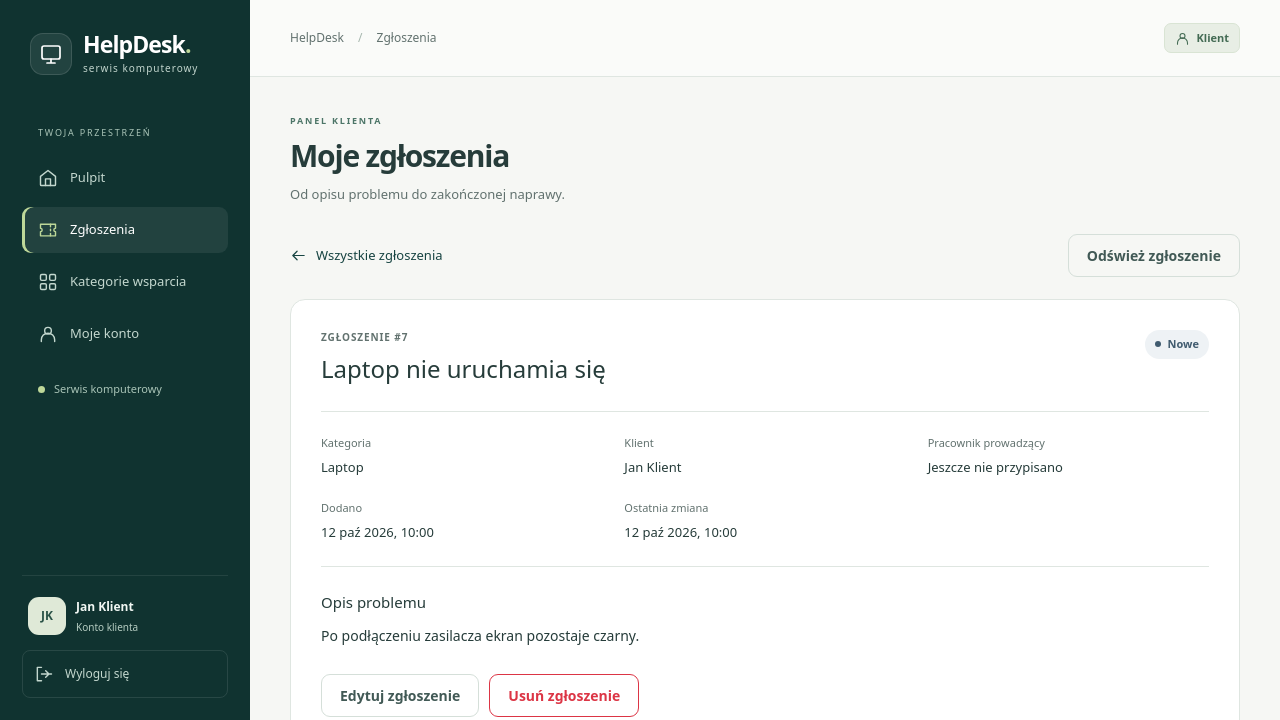
Test: Edycja zachowuje szkic przy zmianie fokusu i konflikcie; odświeżenie pokazuje blokadę obsługi
Expected: the heading "Laptop nie uruchamia się" is shown, [321,352,606,386]
Step 1. Click the button "Edytuj zgłoszenie" → (400, 695), box [321,674,479,717]
(page scrolled)
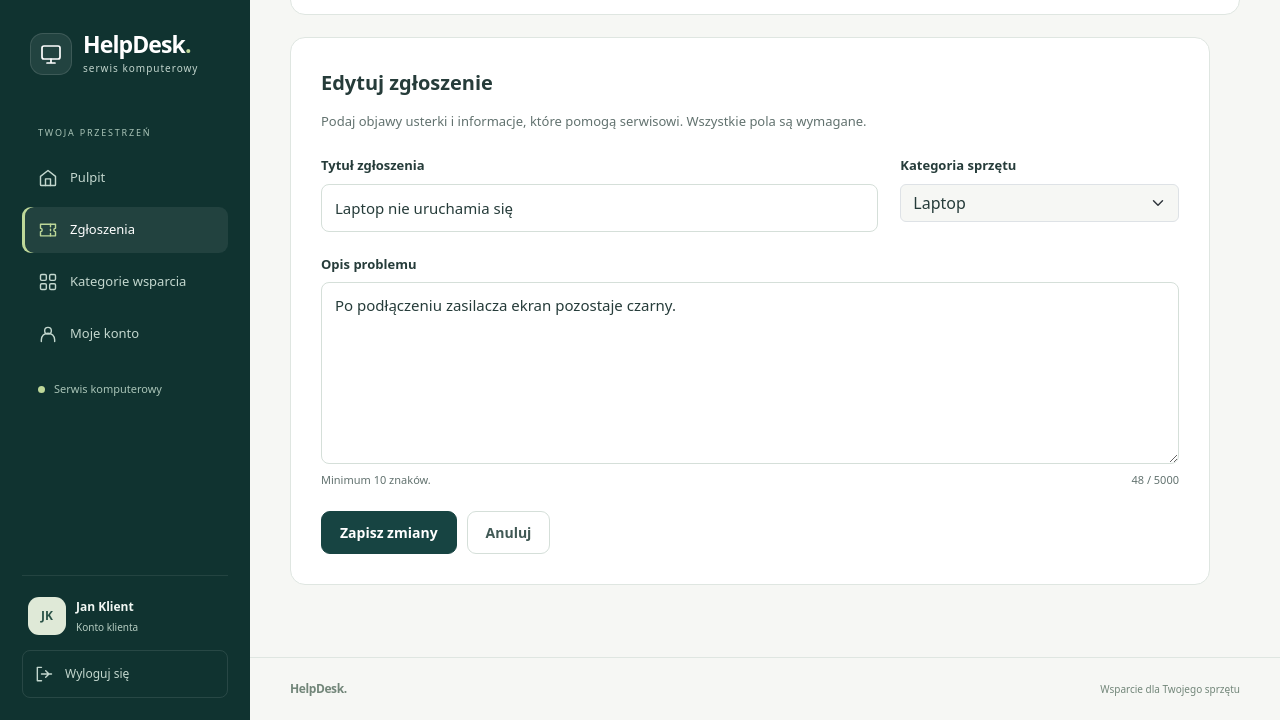
Step 2. Type " Dodatkowy objaw." into the text box labelled "Opis problemu" → (750, 373), box [321,282,1179,464]
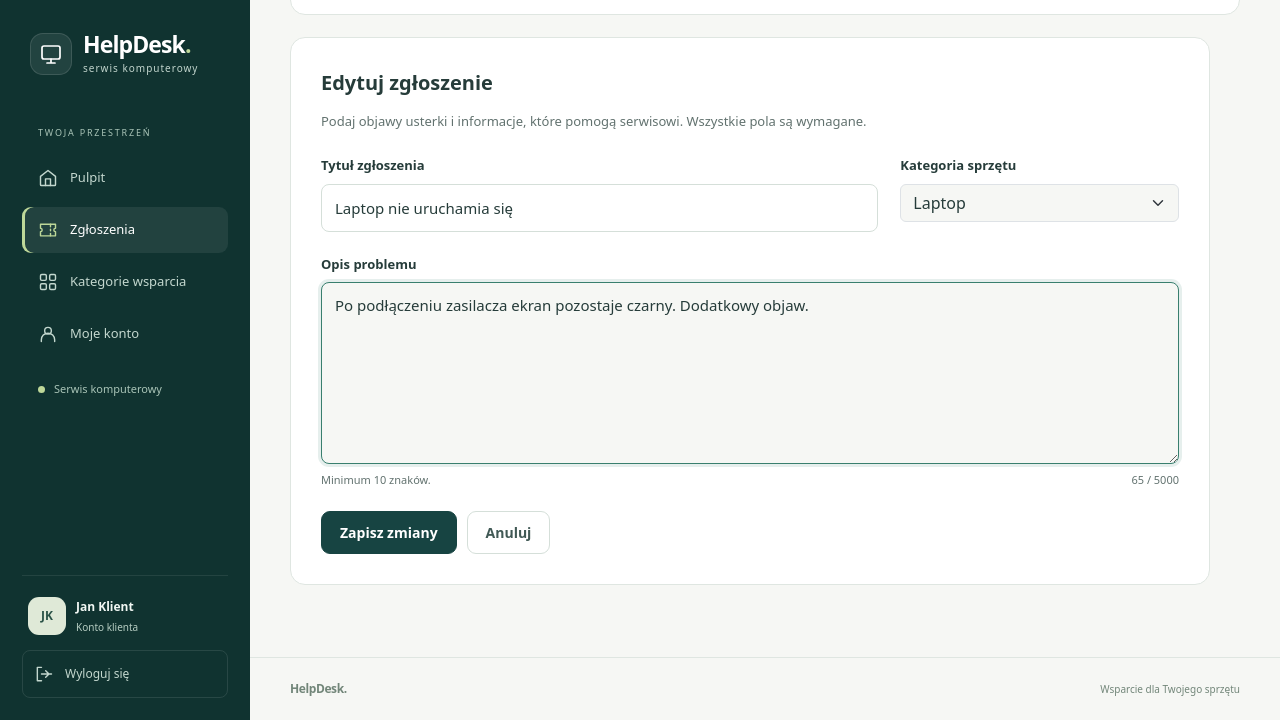
Step 3. Click the button "Zapisz zmiany" → (389, 533), box [321,511,457,554]
(page scrolled)
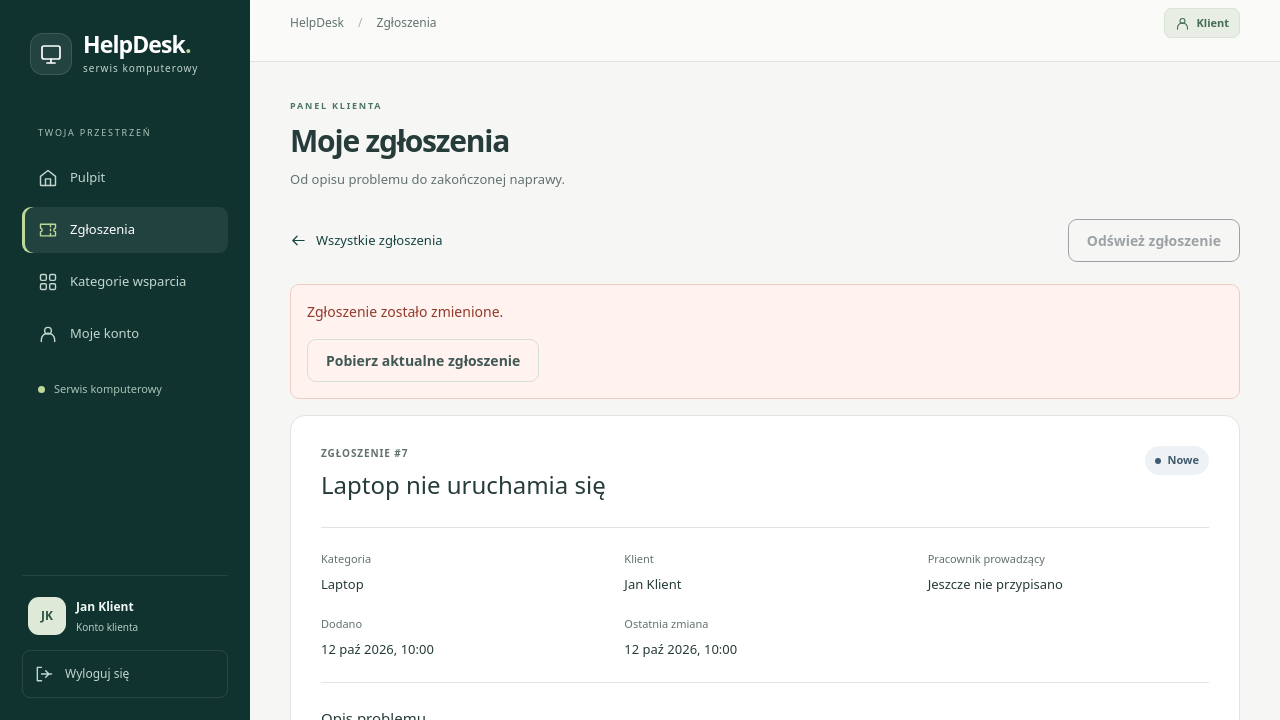
Now the message "Zgłoszenie zostało zmienione. Pobierz aktualne zgłoszenie" is shown, box [290,284,1240,400]
Step 4. Click the button "Pobierz aktualne zgłoszenie" → (423, 361), box [307,340,539,382]
(page scrolled)
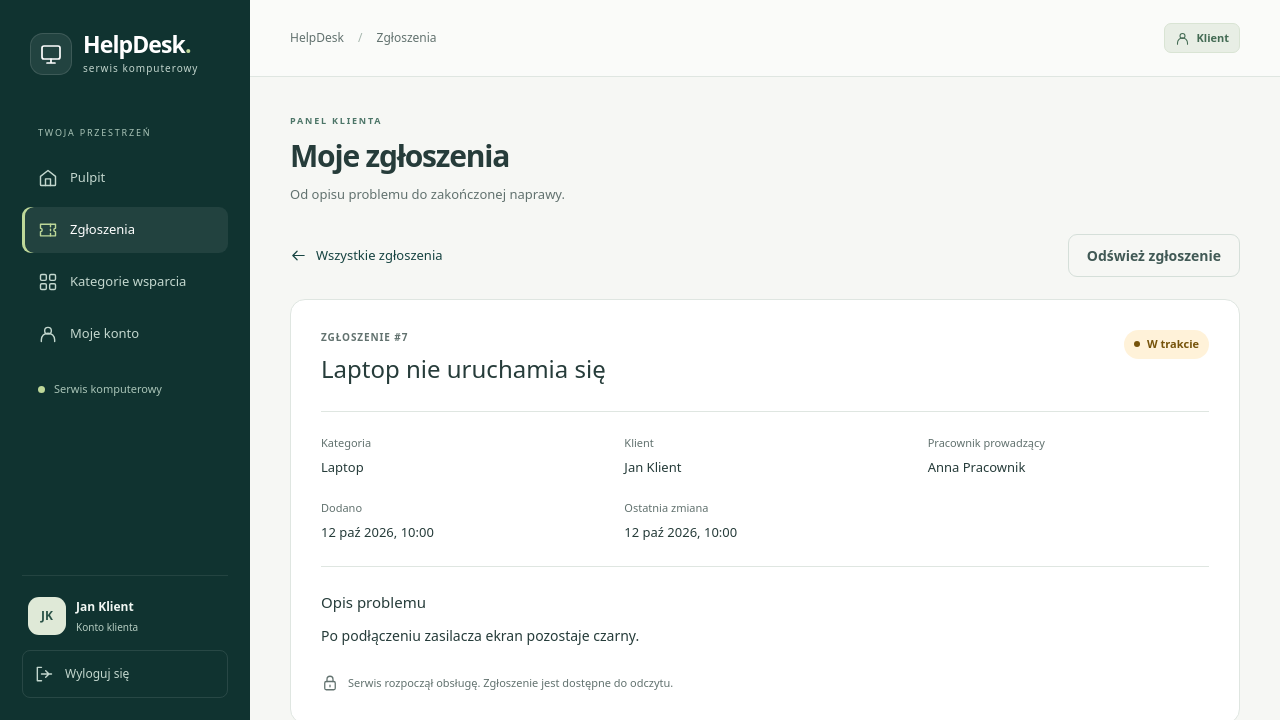
Now the text "Serwis rozpoczął obsługę. Zgłoszenie jest dostępne do odczytu." is shown, box [321,674,673,692]
